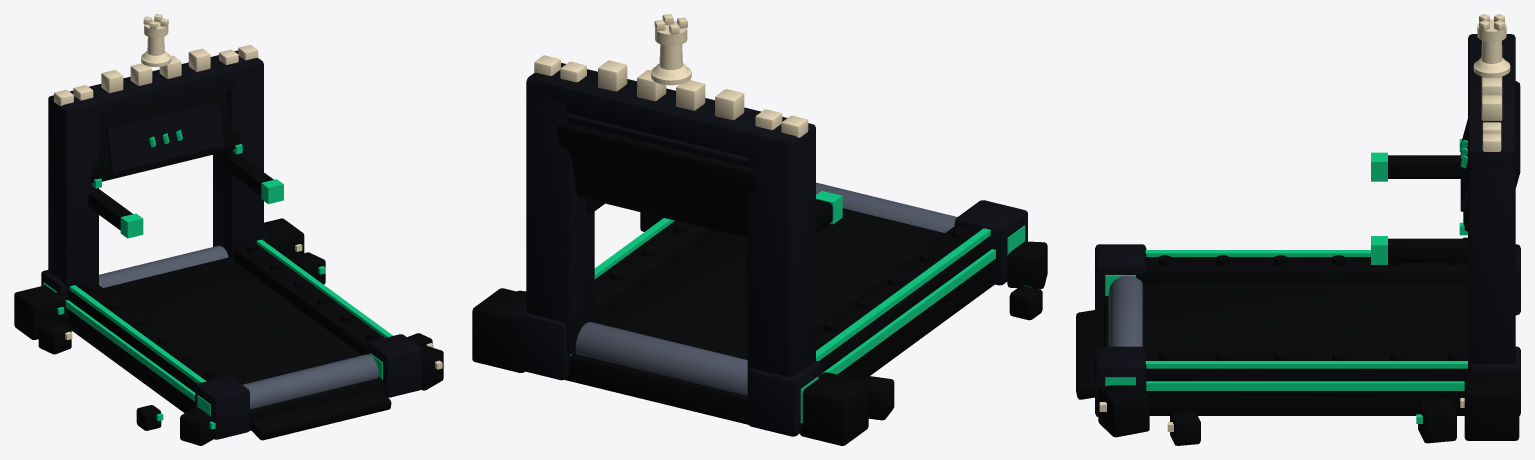
Rendered from CastleClimb.obj.
3 views of the same model, side by side, from view 1: azimuth 30°, elevation 25°; view 2: azimuth 150°, elevation 25°; view 3: azimuth 270°, elevation 25° (orthographic). The views are drawn at different scales.
Parts seen in each view (by area): view 1: CastleClimb_Panel, CastleClimb_Body, CastleClimb_Belt, CastleClimb_Spill, CastleClimb_Neon, CastleClimb_Steel, CastleClimb_Chess, CastleClimb_Prop; view 2: CastleClimb_Panel, CastleClimb_Body, CastleClimb_Belt, CastleClimb_Spill, CastleClimb_Steel, CastleClimb_Neon, CastleClimb_Chess, CastleClimb_Prop; view 3: CastleClimb_Body, CastleClimb_Belt, CastleClimb_Panel, CastleClimb_Neon, CastleClimb_Spill, CastleClimb_Steel, CastleClimb_Chess, CastleClimb_Prop.
Boxes of the visible parts, box(x1,y1,x2,y2) form: CastleClimb_Panel: box(41, 50, 422, 439); CastleClimb_Body: box(68, 90, 391, 440); CastleClimb_Belt: box(103, 257, 361, 384); CastleClimb_Spill: box(14, 218, 443, 445); CastleClimb_Neon: box(43, 130, 393, 429); CastleClimb_Steel: box(99, 245, 378, 409); CastleClimb_Chess: box(54, 45, 442, 369); CastleClimb_Prop: box(141, 14, 171, 67); CastleClimb_Panel: box(517, 63, 1027, 436); CastleClimb_Body: box(557, 122, 994, 424); CastleClimb_Belt: box(597, 208, 944, 359); CastleClimb_Spill: box(472, 212, 1047, 445); CastleClimb_Steel: box(575, 182, 957, 395); CastleClimb_Neon: box(569, 191, 1031, 423); CastleClimb_Chess: box(534, 55, 808, 137); CastleClimb_Prop: box(651, 14, 691, 85); CastleClimb_Body: box(1076, 81, 1520, 415); CastleClimb_Belt: box(1142, 283, 1467, 352); CastleClimb_Panel: box(1095, 34, 1520, 416); CastleClimb_Neon: box(1105, 139, 1467, 423); CastleClimb_Spill: box(1098, 237, 1519, 445); CastleClimb_Steel: box(1108, 275, 1142, 346); CastleClimb_Chess: box(1099, 45, 1502, 431); CastleClimb_Prop: box(1473, 14, 1510, 77).
Size of the model in its own units: 12 by 11.12 by 13.06.
